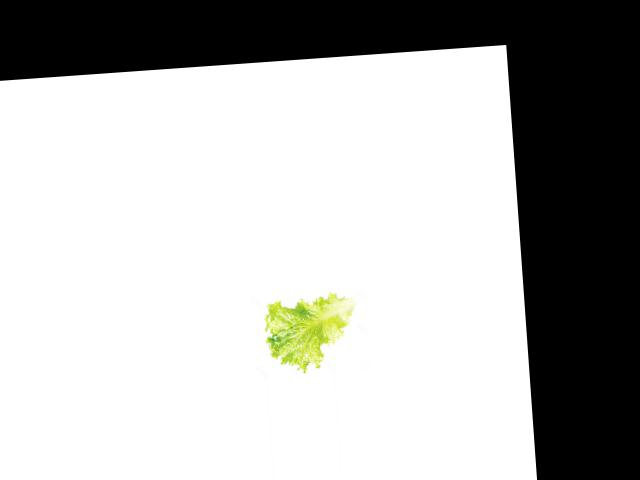lettuce: (262, 295, 360, 374)
